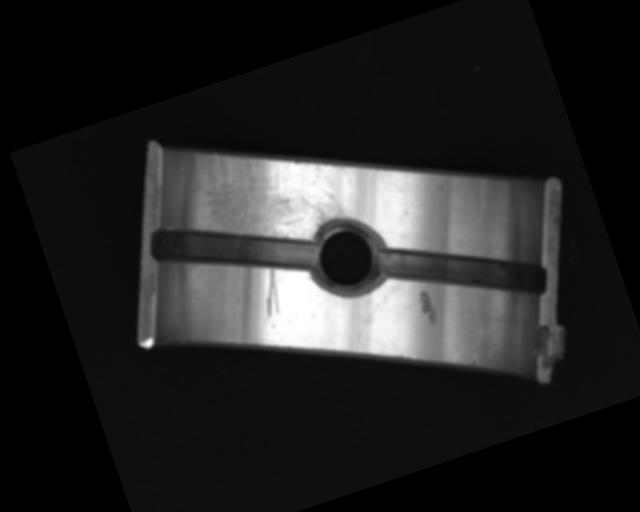bruise: (414, 286, 444, 329)
gap: (369, 202, 552, 341), (145, 185, 319, 313)
hole: (301, 212, 394, 303)
nick: (252, 266, 288, 319)
scratch: (182, 106, 360, 267)
